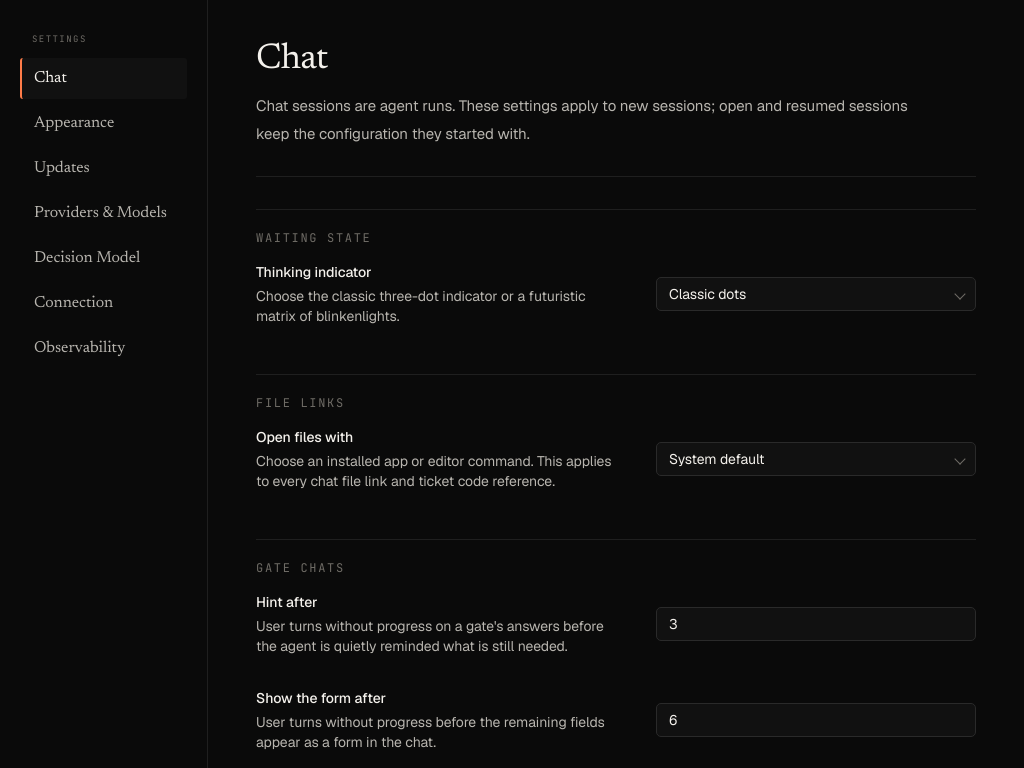
Test: shared configuration forms › renders only the connection pane and restores preferences when returning to Chat
expect the dropdown named "Thinking indicator" is shown: met, box [656,277,976,311]
Click the button with test id "settings-nav-connection".
click(104, 303)  # box [20,283,187,324]
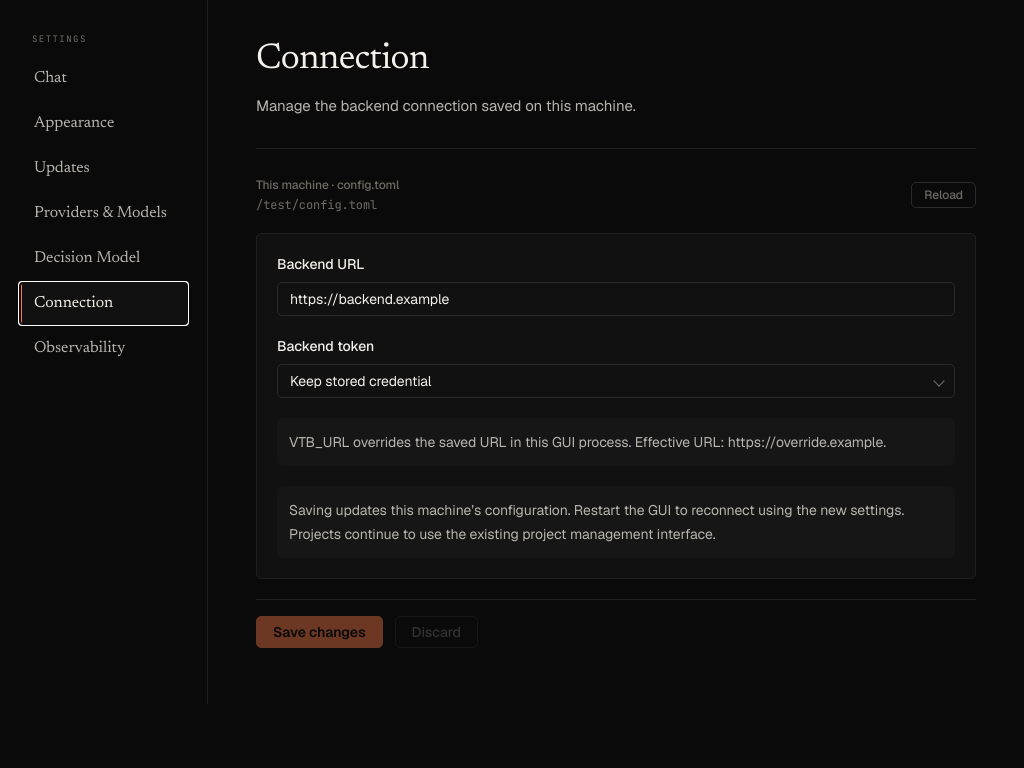
expect the text labelled "Thinking indicator" is gone: met
expect the dropdown with test id "settings-external-editor" is gone: met
expect the button "Reload" is enabled: met, box [911,182,976,208]
Click the button with test id "settings-nav-chat".
click(104, 79)  # box [20,58,187,99]
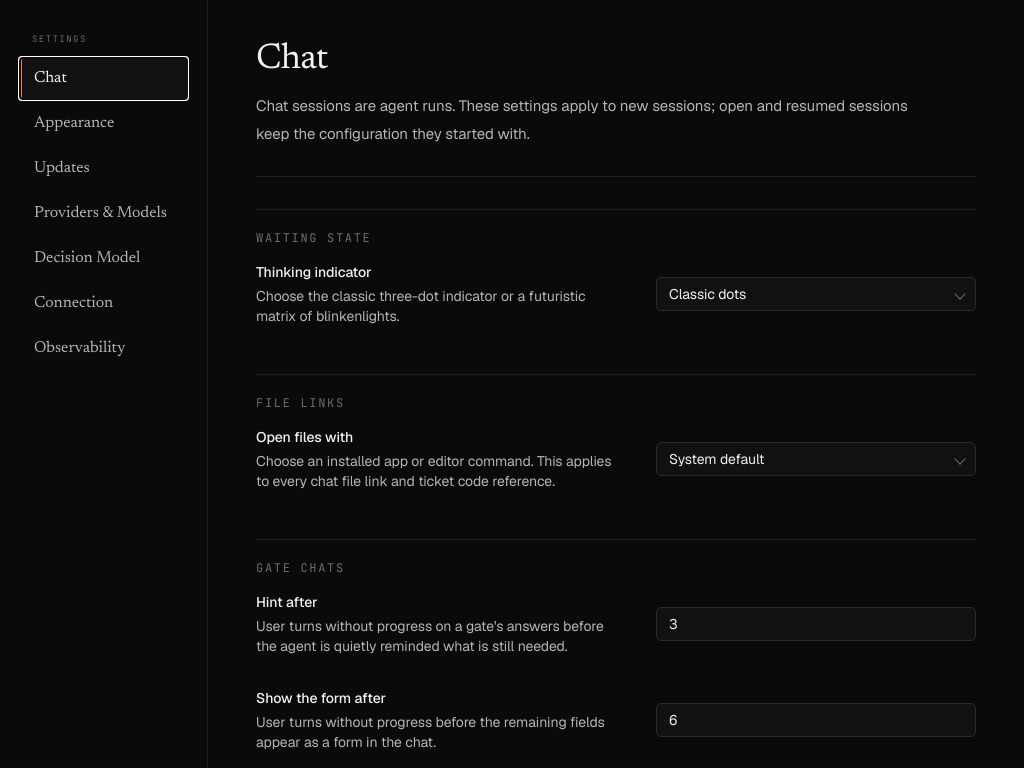
expect the dropdown named "Thinking indicator" is shown: met, box [656,277,976,311]
